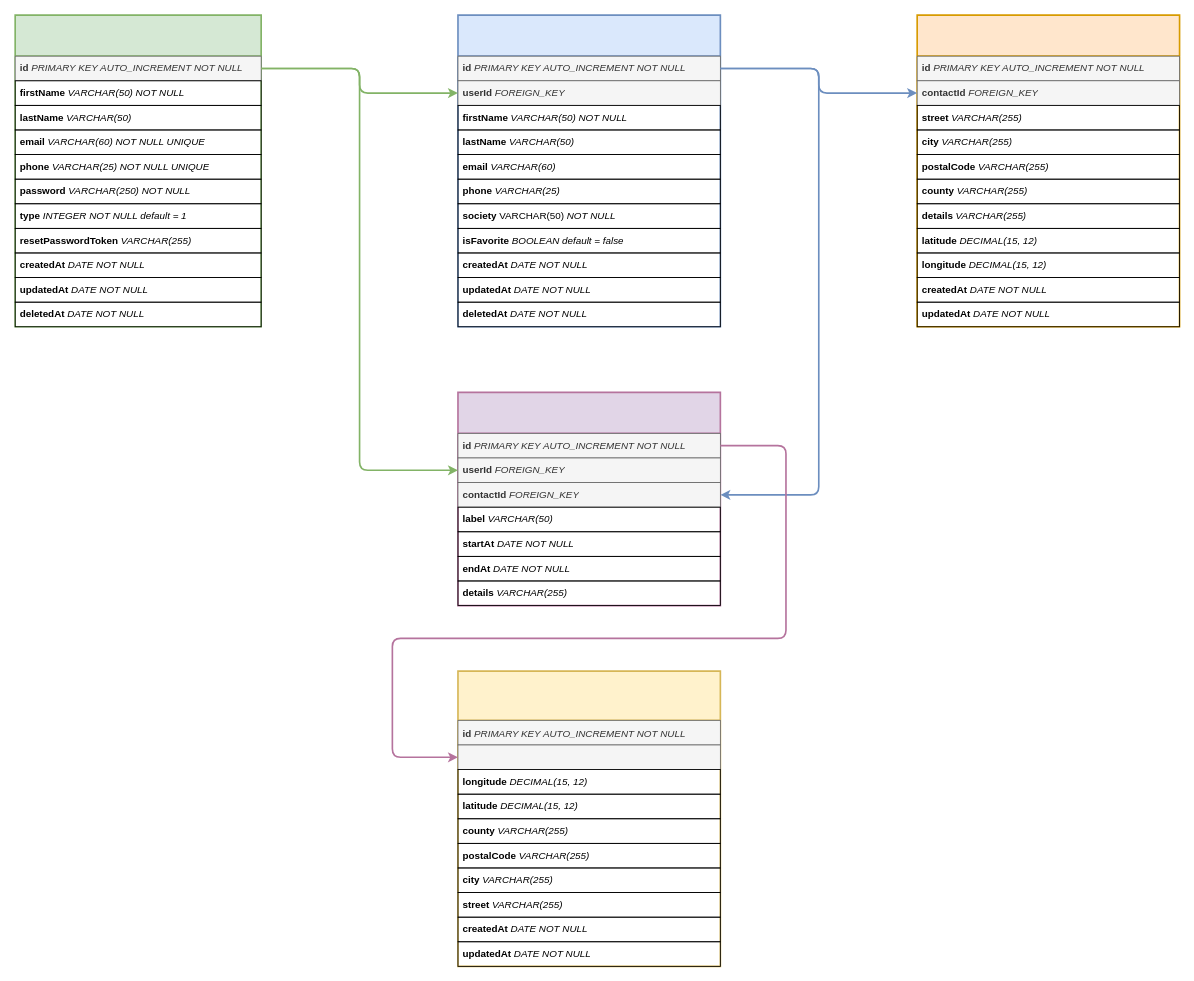
This 1194x981 diagram has some shape labels left out. Here are the shapes that lost their labels. From the top down, the box of each, then its label:
(14, 14, 262, 327): Users
(457, 14, 721, 327): UsersContacts
(916, 14, 1180, 327): UsersContactAddress
(457, 391, 721, 606): UsersMeetingCalendar
(457, 744, 720, 770): meetinId FOREIGN_KEY
(457, 670, 721, 967): MeetingAddress
